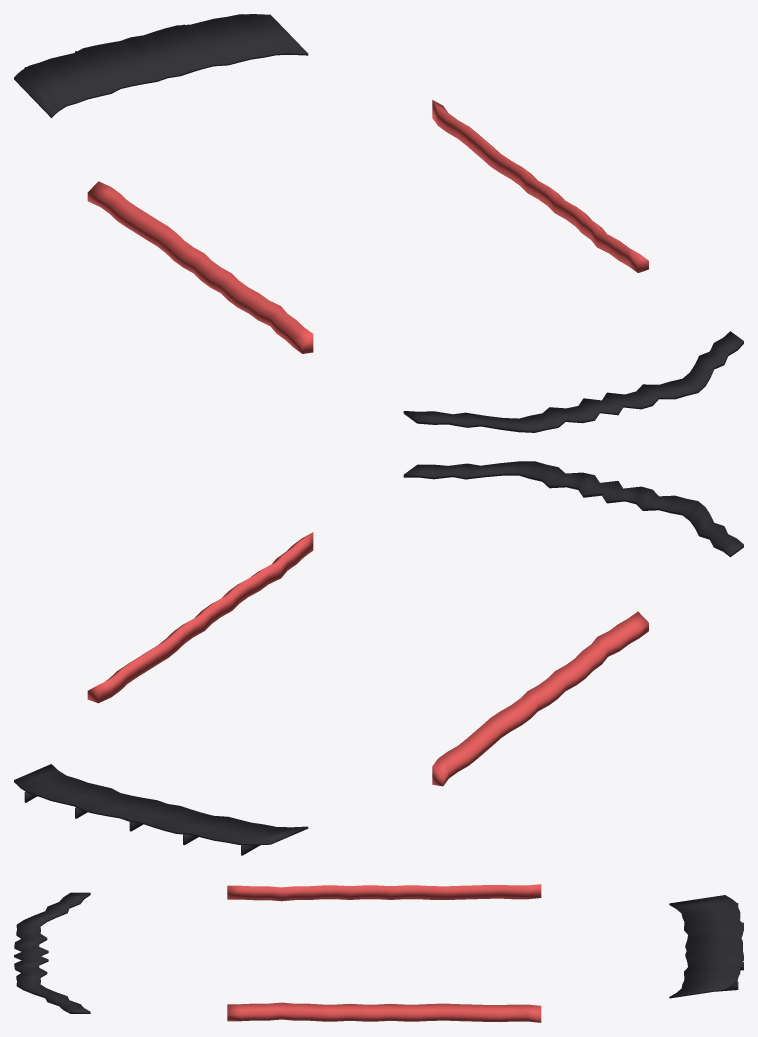
The model's file is bodykit-street.glb.
The picture shows the model from 3 angles, top to bottom: view 1: azimuth 30°, elevation 25°; view 2: azimuth 150°, elevation 25°; view 3: azimuth 270°, elevation 25°; orthographic projection. The views are drawn at different scales.
Parts seen in each view (by area): view 1: diffuser, skirt_R, front_lip, skirt_L; view 2: diffuser, front_lip, skirt_R, skirt_L; view 3: diffuser, skirt_L, skirt_R, front_lip.
Boxes of the visible parts, left/top/right/bottom form: diffuser: left=14, top=14, right=308, bottom=117; skirt_R: left=87, top=181, right=313, bottom=353; front_lip: left=403, top=331, right=743, bottom=432; skirt_L: left=432, top=100, right=648, bottom=272; diffuser: left=14, top=764, right=308, bottom=855; front_lip: left=403, top=461, right=743, bottom=557; skirt_R: left=432, top=611, right=648, bottom=786; skirt_L: left=87, top=532, right=313, bottom=703; diffuser: left=669, top=895, right=743, bottom=998; skirt_L: left=227, top=1002, right=541, bottom=1022; skirt_R: left=227, top=884, right=541, bottom=901; front_lip: left=14, top=892, right=90, bottom=1013.
Bounding box in the file's own units: 1.81 × 0.1108 × 4.3.
